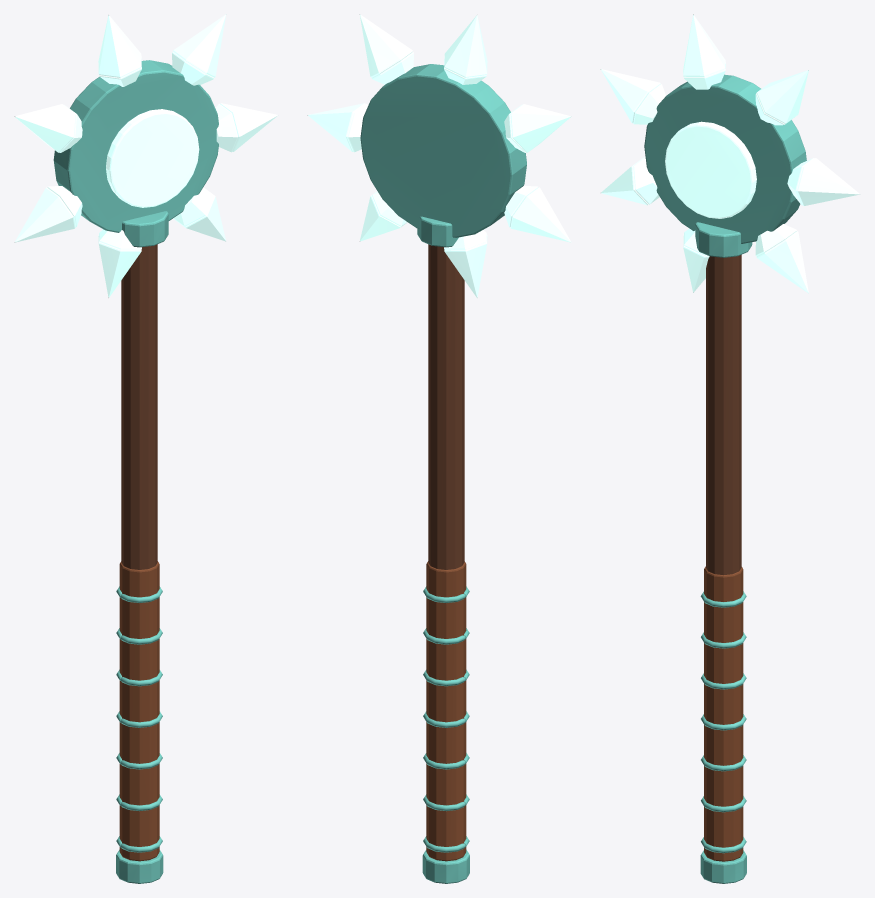
Rendered from item_018.glb.
3 views of the same model, side by side, from view 1: azimuth 30°, elevation 25°; view 2: azimuth 150°, elevation 25°; view 3: azimuth 330°, elevation 25° (orthographic).
Parts seen in each view (by area): view 1: Item_018_glass_sun; view 2: Item_018_glass_sun; view 3: Item_018_glass_sun.
Boxes of the visible parts, left/top/right/bottom form: Item_018_glass_sun: left=14, top=14, right=278, bottom=883; Item_018_glass_sun: left=307, top=14, right=571, bottom=883; Item_018_glass_sun: left=600, top=14, right=860, bottom=883.
Size of the model in its own units: 0.5893 by 1.85 by 0.116.
